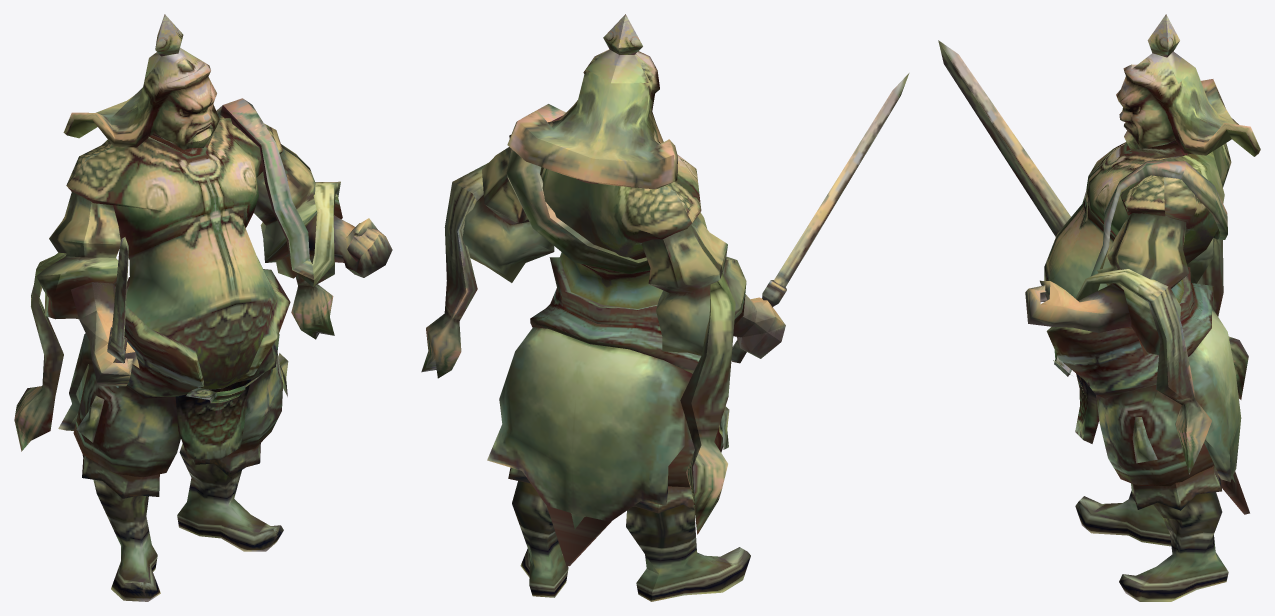
Rendered from environment_Building_zhucheng_jianzhu_001_c.FBX.
3 renders of one model, left to right at view 1: azimuth 30°, elevation 25°; view 2: azimuth 150°, elevation 25°; view 3: azimuth 270°, elevation 25°, orthographic. The views are drawn at different scales.
Visible parts, largest first — view 1: environment_Building_zhucheng_jianzhu_001_c; view 2: environment_Building_zhucheng_jianzhu_001_c; view 3: environment_Building_zhucheng_jianzhu_001_c.
Part boxes in pixels (x1,y1,x2,y2): environment_Building_zhucheng_jianzhu_001_c: [14, 14, 392, 601]; environment_Building_zhucheng_jianzhu_001_c: [421, 14, 909, 601]; environment_Building_zhucheng_jianzhu_001_c: [938, 14, 1260, 601].
Size of the model in its own units: 553 by 855 by 462.
Materials: 1 (1 with a texture image).
